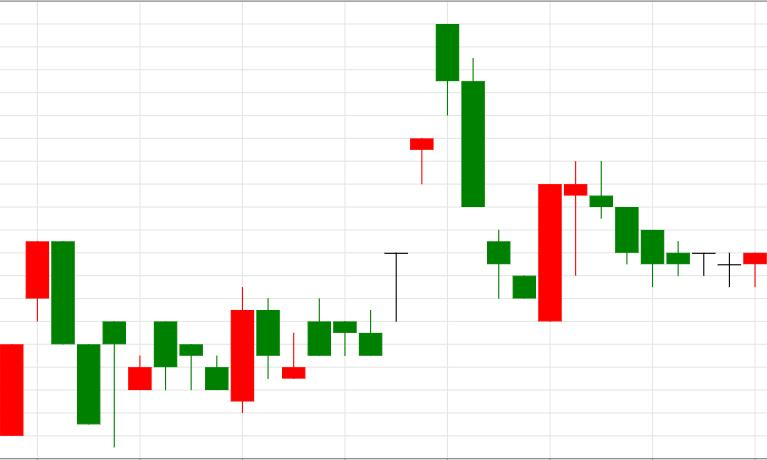bullish_engulfing_rise: (436, 24, 562, 322), (154, 286, 254, 414)
